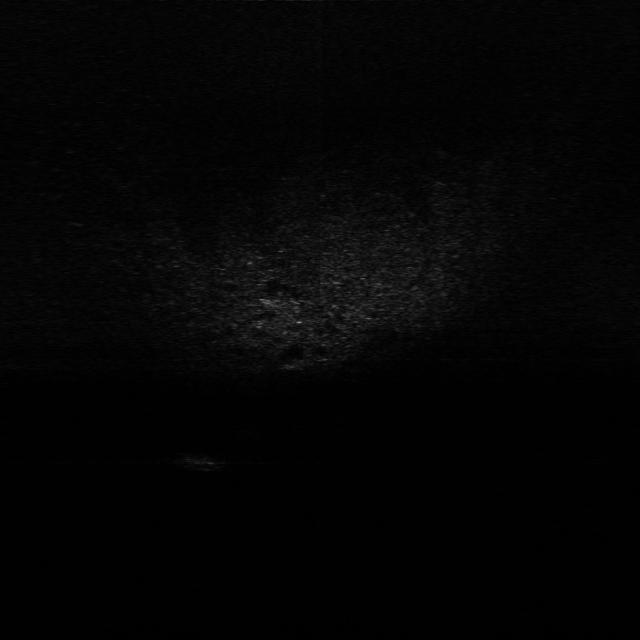circle cage: (168, 442, 244, 478)
